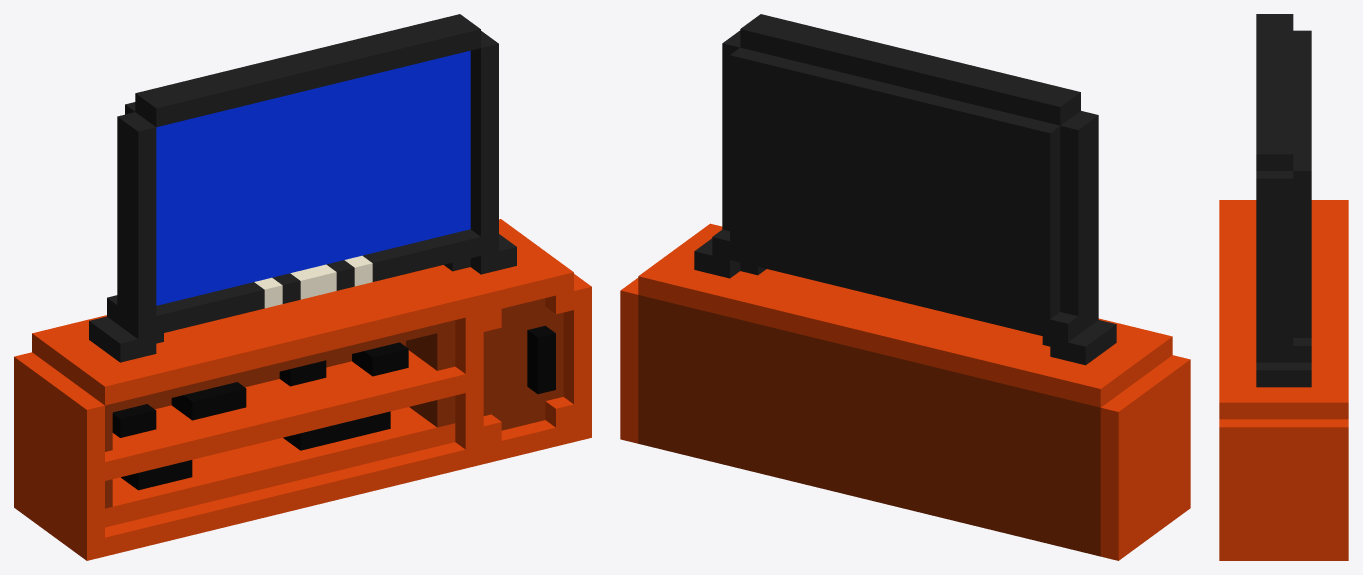
File: pantallaemierda.glb
The picture shows the model from 3 angles, left to right: view 1: azimuth 30°, elevation 25°; view 2: azimuth 150°, elevation 25°; view 3: azimuth 270°, elevation 25°; orthographic projection. The views are drawn at different scales.
Visible parts, largest first — view 1: _0; view 2: _0; view 3: _0.
Boxes of the visible parts, x1,y1,x2,y2 form: _0: (14,14,591,560); _0: (620,14,1190,560); _0: (1219,14,1348,560).
Size of the model in its own units: 0.042 by 0.033 by 0.0105.
